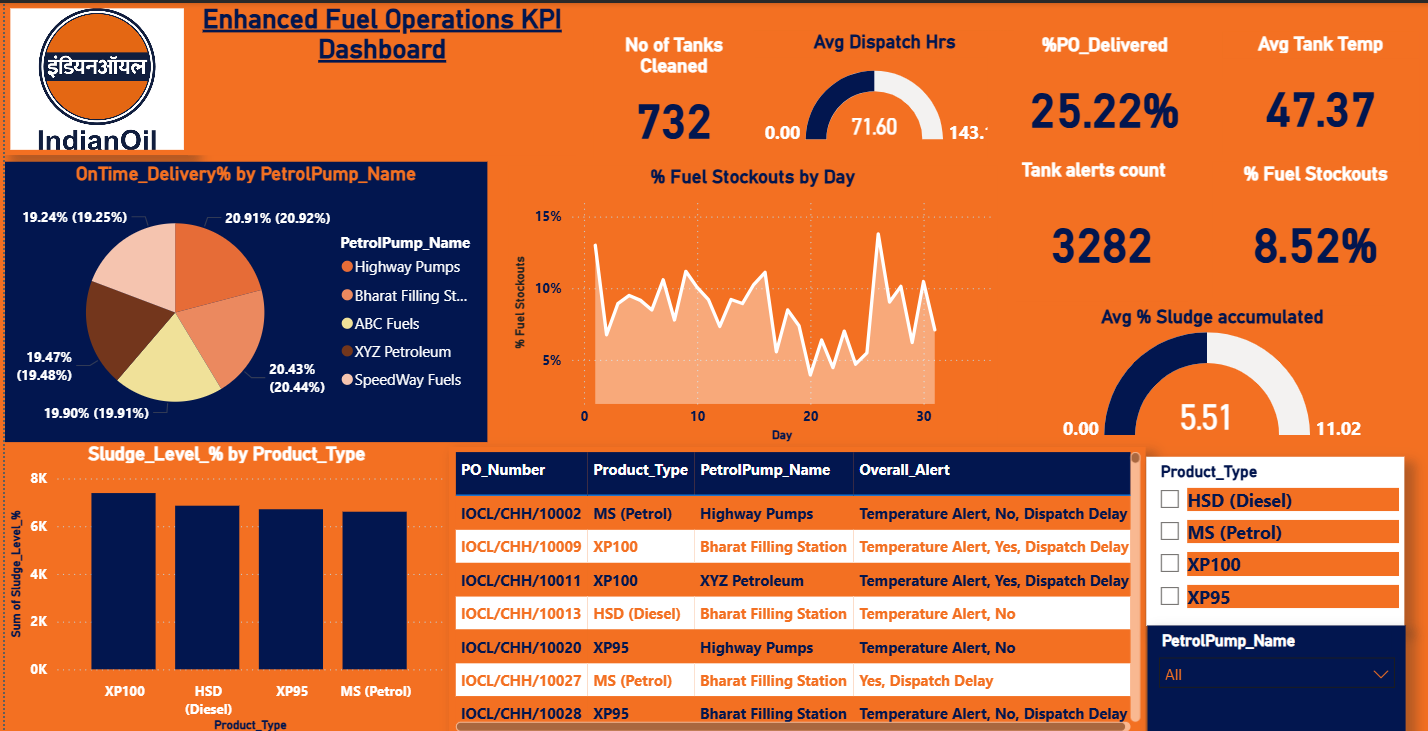

This screenshot's page, from the dashboard's own definition file:
{"tool":"powerbi","page":{"name":"Page 1","canvas":[1280,720],"ordinal":0},"visuals":[{"type":"card","title":"% Fuel Stockouts ","fields":{"Values":["KPI_Enhanced_FuelData.% Fuel Stockouts"]},"box":[1085.6,142.2,185.6,122.2],"z":0},{"type":"image","box":[0,0,165.6,136.7],"z":1000},{"type":"gauge","title":"Avg Dispatch Hrs ","fields":{"Y":["KPI_Enhanced_FuelData.Avg_dispatch"]},"box":[673.3,24.4,235.6,120],"z":2000},{"type":"card","title":"%PO_Delivered","fields":{"Values":["KPI_Enhanced_FuelData.PO_delivered"]},"box":[883.3,26.7,211.1,112.2],"z":3000},{"type":"gauge","title":"Avg % Sludge accumulated ","fields":{"Y":["KPI_Enhanced_FuelData.sludge_accumulation"]},"box":[930,272.2,310,126.7],"z":4000},{"type":"card","title":"Avg Tank Temp","fields":{"Values":["KPI_Enhanced_FuelData.Avg_tank_temp"]},"box":[1094.4,25.6,176.7,111.1],"z":5000},{"type":"card","title":"No of Tanks Cleaned ","fields":{"Values":["KPI_Enhanced_FuelData.Tank_cleaning"]},"box":[528.9,26.7,144.4,112.2],"z":6000},{"type":"areaChart","fields":{"Category":["KPI_Enhanced_FuelData.Date.Variation.Date Hierarchy.Day"],"Y":["KPI_Enhanced_FuelData.% Fuel Stockouts"]},"box":[453.3,145.6,438.9,253.3],"z":7000},{"type":"clusteredColumnChart","title":"Sludge_Level_% by Product_Type","fields":{"Category":["KPI_Enhanced_FuelData.Product_Type"],"Y":["Sum(KPI_Enhanced_FuelData.Sludge_Level_%)"]},"box":[0,394.4,398.9,265.6],"z":8000},{"type":"pieChart","fields":{"Category":["KPI_Enhanced_FuelData.PetrolPump_Name"],"Y":["KPI_Enhanced_FuelData.OnTime_Delivery%"]},"box":[0,142.2,433.3,252.2],"z":9000},{"type":"tableEx","fields":{"Values":["KPI_Enhanced_FuelData.PO_Number","KPI_Enhanced_FuelData.Product_Type","KPI_Enhanced_FuelData.PetrolPump_Name","KPI_Enhanced_FuelData.Overall_Alert"]},"box":[398.9,398.9,626.7,261.1],"z":10000},{"type":"card","title":"Tank alerts count ","fields":{"Values":["KPI_Enhanced_FuelData.Temp_alerts"]},"box":[908.9,138.9,154.4,128.9],"z":11000},{"type":"slicer","fields":{"Values":["KPI_Enhanced_FuelData.Product_Type"]},"box":[1025.6,407.8,232.2,152.2],"z":12000},{"type":"textbox","title":"Enhanced Fuel Operations KPI Dashboard","box":[165.6,0,347.8,136.7],"z":13000},{"type":"slicer","fields":{"Values":["KPI_Enhanced_FuelData.PetrolPump_Name"]},"box":[1026.7,560,232.2,100],"z":13001}]}

Visuals, with their boxes on the page's 1280x720 design canvas (x1, y1, x2, y2). These are canvas units, not pixel positions in the 1428x731 screenshot, which may show the page scaled, cropped or inside an application window:
"% Fuel Stockouts " card: bbox=[1086, 142, 1271, 264]
image: bbox=[0, 0, 166, 137]
"Avg Dispatch Hrs " gauge: bbox=[673, 24, 909, 144]
"%PO_Delivered" card: bbox=[883, 27, 1094, 139]
"Avg % Sludge accumulated " gauge: bbox=[930, 272, 1240, 399]
"Avg Tank Temp" card: bbox=[1094, 26, 1271, 137]
"No of Tanks Cleaned " card: bbox=[529, 27, 673, 139]
areaChart - KPI_Enhanced_FuelData.Date.Variation.Date Hierarchy.Day x KPI_Enhanced_FuelData.% Fuel Stockouts: bbox=[453, 146, 892, 399]
"Sludge_Level_% by Product_Type" clusteredColumnChart: bbox=[0, 394, 399, 660]
pieChart - KPI_Enhanced_FuelData.PetrolPump_Name x KPI_Enhanced_FuelData.OnTime_Delivery%: bbox=[0, 142, 433, 394]
tableEx - KPI_Enhanced_FuelData.PO_Number x KPI_Enhanced_FuelData.Product_Type: bbox=[399, 399, 1026, 660]
"Tank alerts count " card: bbox=[909, 139, 1063, 268]
slicer - KPI_Enhanced_FuelData.Product_Type: bbox=[1026, 408, 1258, 560]
"Enhanced Fuel Operations KPI Dashboard" textbox: bbox=[166, 0, 513, 137]
slicer - KPI_Enhanced_FuelData.PetrolPump_Name: bbox=[1027, 560, 1259, 660]
